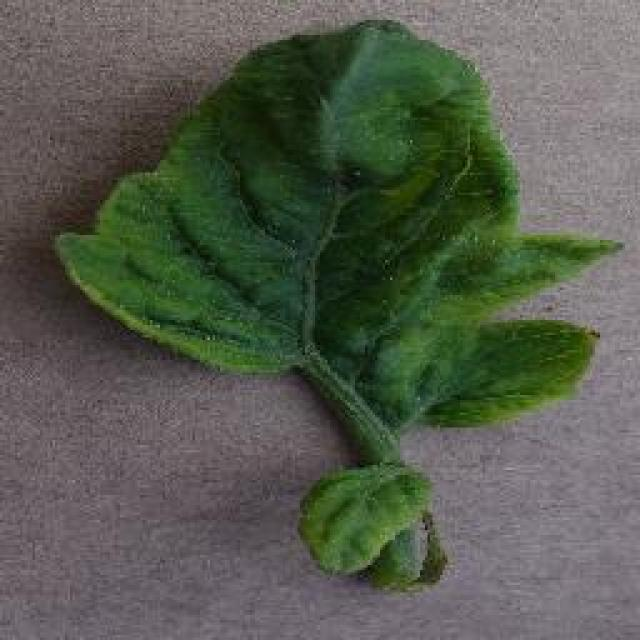Tomato yellow virus leaf: (51, 13, 626, 437), (294, 460, 438, 582)
